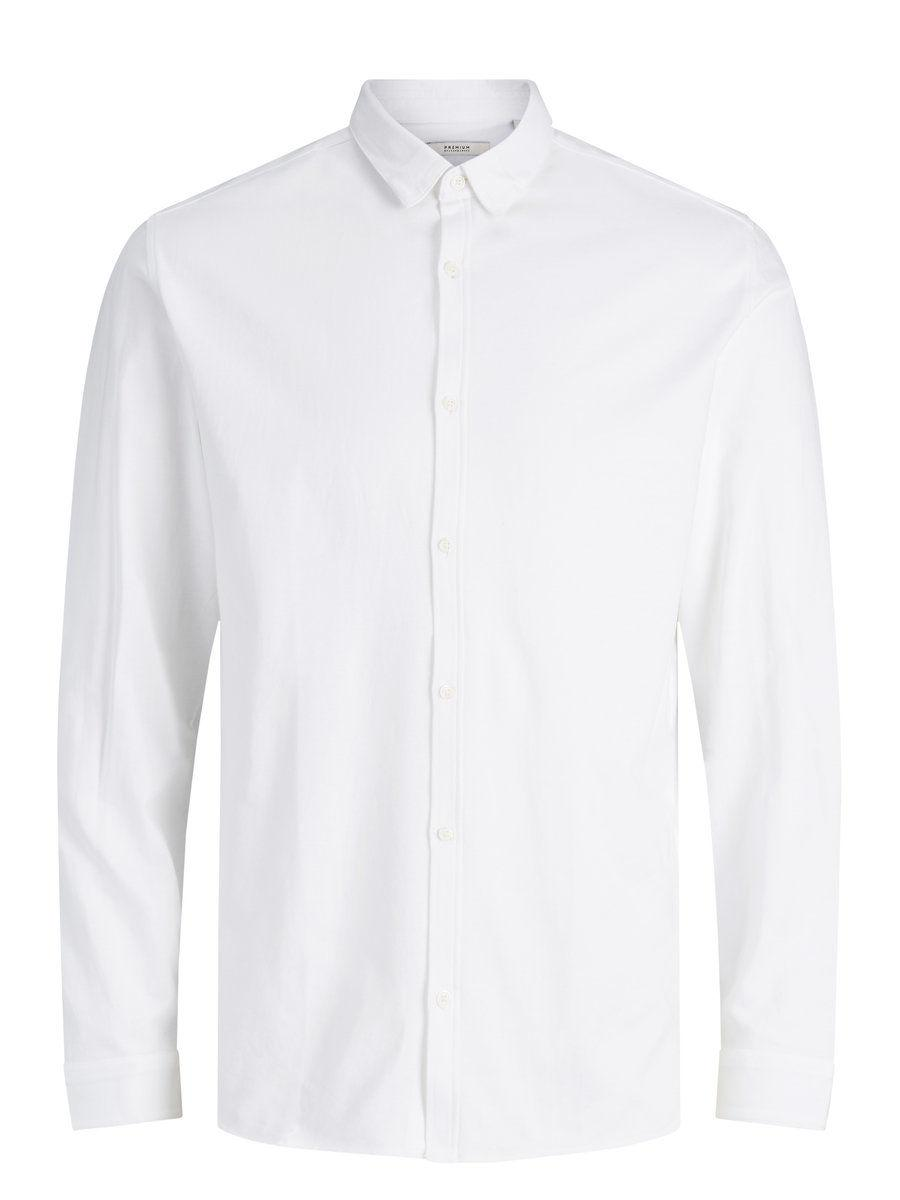teeshirt: (42, 69, 845, 1149)
